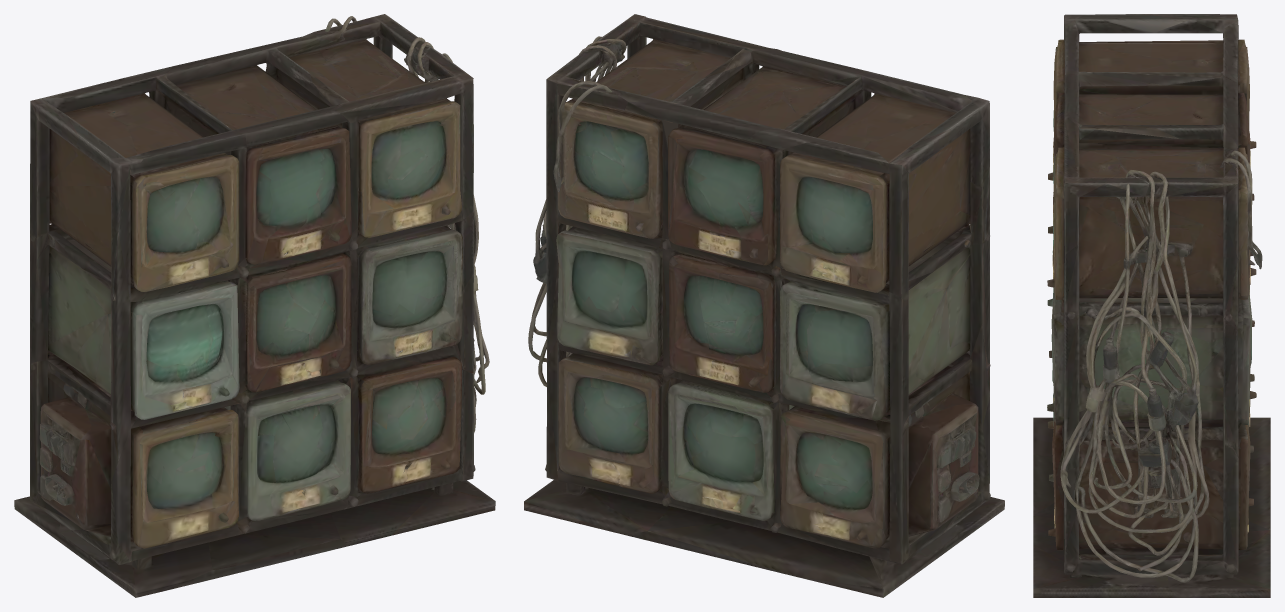
The model's file is monitors.glb.
3 views of the same model, side by side, from view 1: azimuth 30°, elevation 25°; view 2: azimuth 150°, elevation 25°; view 3: azimuth 270°, elevation 25° (orthographic). The views are drawn at different scales.
Visible parts, largest first — view 1: Mesh_0; view 2: Mesh_0; view 3: Mesh_0.
Boxes of the visible parts, <box> form: Mesh_0: <box>14,14,495,597</box>; Mesh_0: <box>524,14,1004,597</box>; Mesh_0: <box>1033,14,1270,597</box>.
Size of the model in its own units: 1.9 by 1.8 by 0.9267.
1 material, 1 textured.
